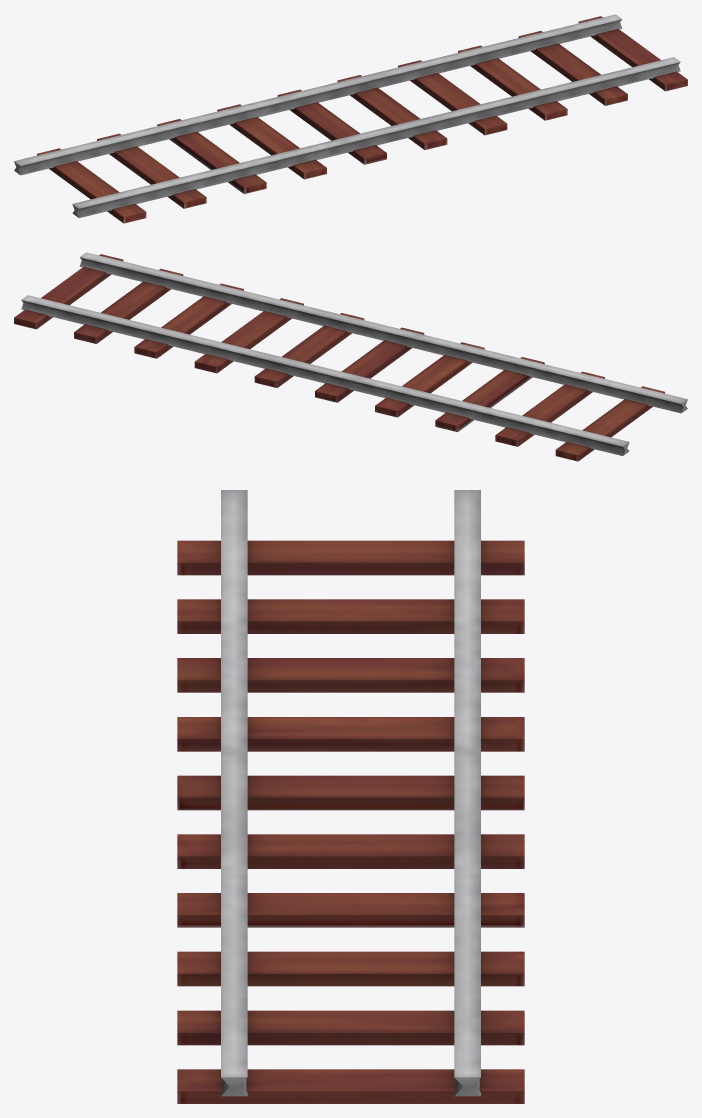
The model's file is TrainTrack_Recht2.FBX.
3 views of the same model, one above another, from view 1: azimuth 30°, elevation 25°; view 2: azimuth 150°, elevation 25°; view 3: azimuth 270°, elevation 25° (orthographic). The views are drawn at different scales.
Visible parts, largest first — view 1: RechtTreinspoor; view 2: RechtTreinspoor; view 3: RechtTreinspoor.
Boxes of the visible parts, x1,y1,x2,y2 form: RechtTreinspoor: (14,14,687,223); RechtTreinspoor: (14,252,687,461); RechtTreinspoor: (177,490,524,1103).
Size of the model in its own units: 1000 by 23.97 by 250.
